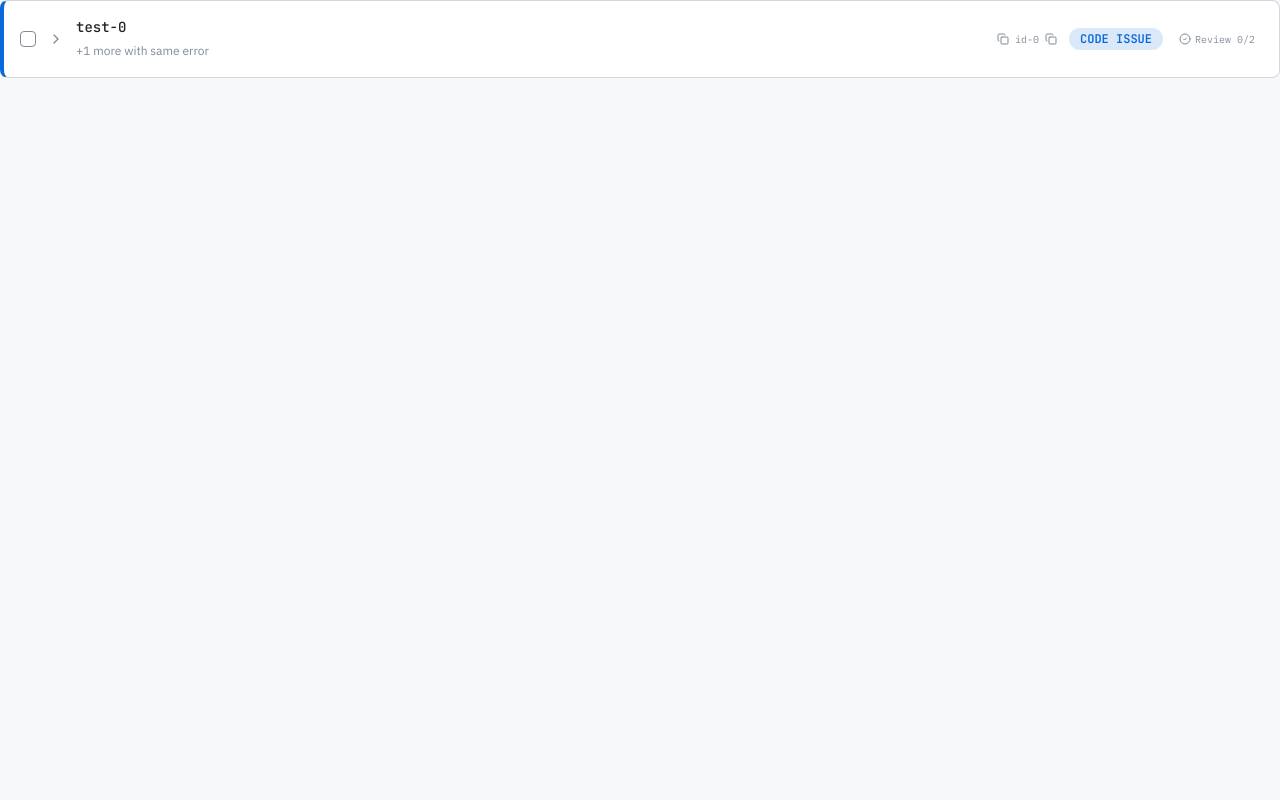
FailureCard primary usage › labels usage shared by failures with the same signature
Click the button "test-0 +1 more with same error" at (101, 27), box [48,17,985,61]
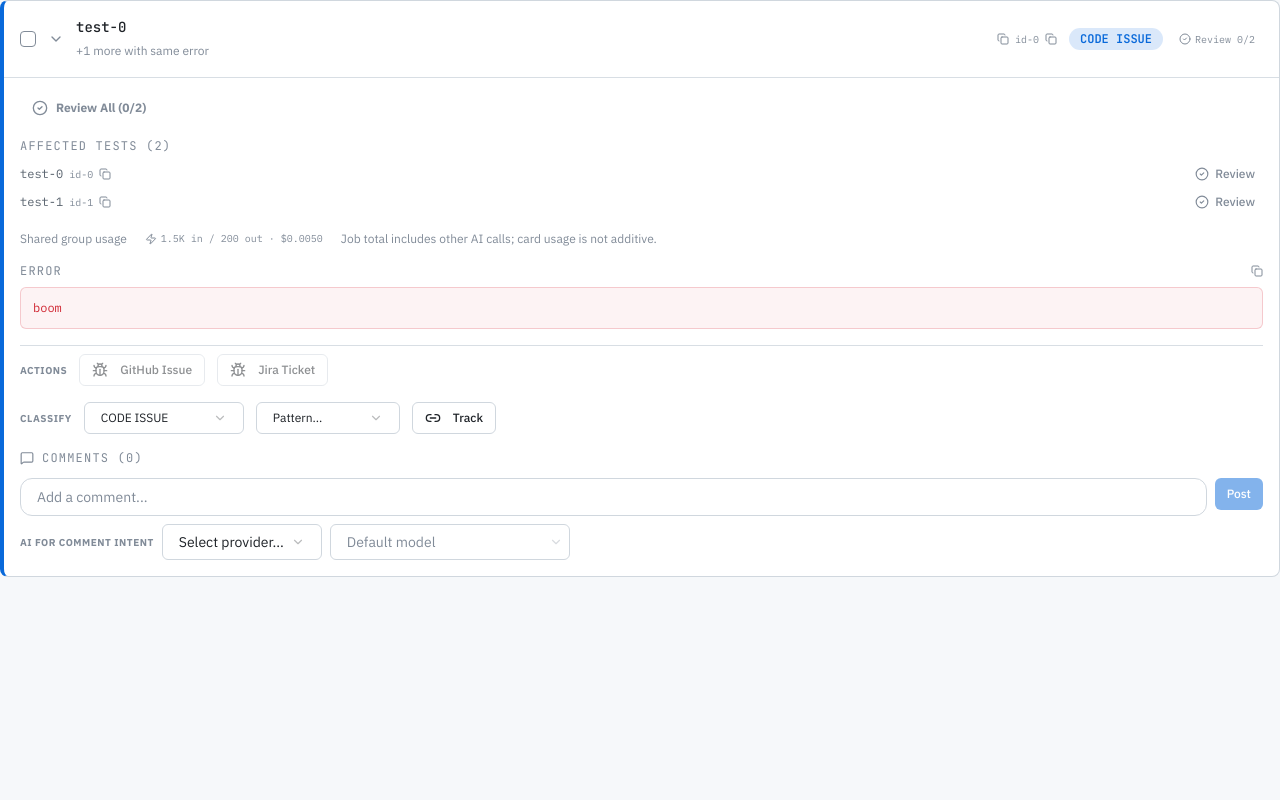
Check: the text "Shared group usage" is shown, box [20,231,127,247]
Check: the text "Job total includes other AI calls" is shown, box [341,231,657,246]
Check: the text "1.5K in / 200 out · $0.0050" is shown once, box [135,230,333,247]
